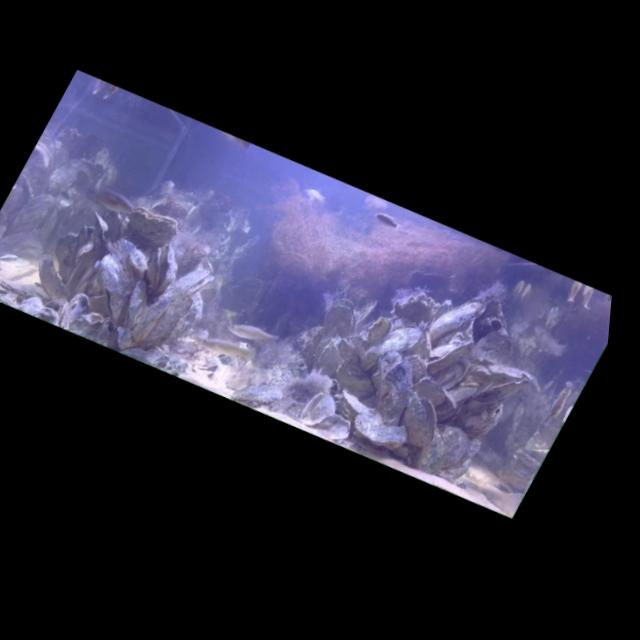Oyster-Closed: (73, 230, 160, 330), (349, 341, 433, 431), (355, 310, 425, 386), (422, 283, 490, 356), (342, 402, 414, 460), (145, 287, 198, 355), (419, 418, 478, 476), (420, 324, 476, 385), (125, 285, 175, 347), (111, 276, 159, 337), (331, 383, 390, 431), (0, 266, 57, 315), (409, 424, 459, 479), (326, 360, 380, 404), (401, 316, 447, 364), (79, 209, 119, 249)
Oyster-Indeterminate: (2, 182, 61, 251), (465, 347, 536, 399), (35, 225, 92, 288), (474, 363, 530, 419), (386, 282, 444, 335), (163, 290, 211, 353), (91, 199, 139, 249), (428, 345, 476, 395), (0, 171, 42, 225), (25, 249, 72, 296), (392, 347, 437, 391), (312, 406, 357, 448), (408, 370, 453, 411), (147, 188, 193, 228), (54, 288, 94, 334), (441, 371, 483, 412), (360, 310, 396, 351), (328, 336, 367, 370)
Oyster-Open: (385, 384, 454, 455), (117, 198, 185, 255), (136, 238, 191, 299), (313, 288, 370, 346), (294, 386, 343, 434), (168, 258, 217, 304), (23, 137, 64, 178), (213, 347, 237, 368)
